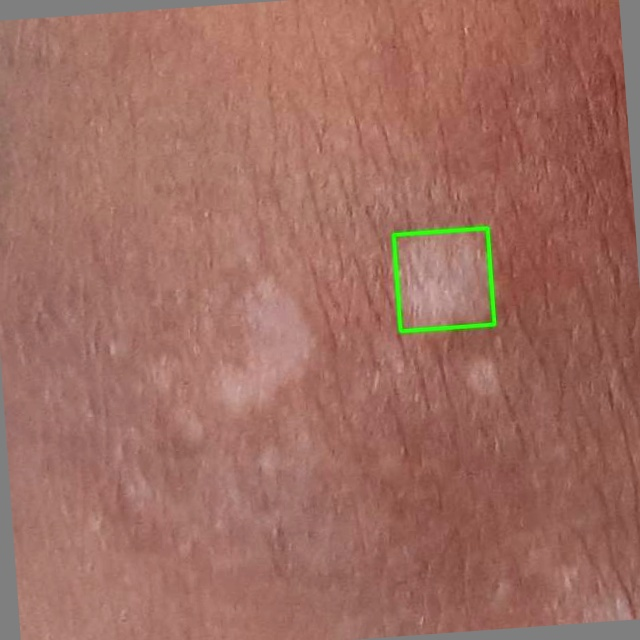Eczema: (393, 228, 494, 331)
